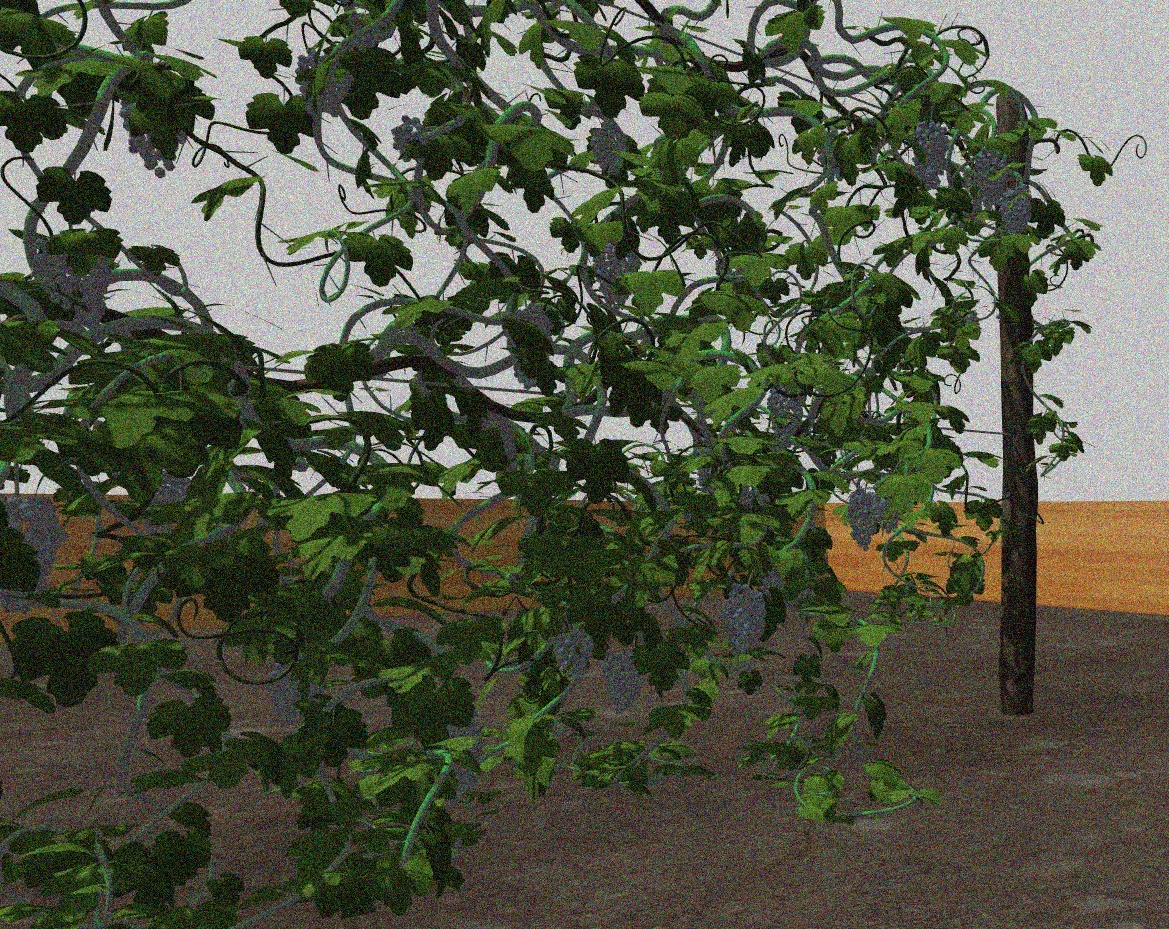grape: (1, 492, 69, 616), (294, 51, 354, 116), (71, 249, 114, 328), (721, 583, 767, 656), (267, 663, 326, 719), (30, 245, 80, 309), (591, 245, 640, 309), (602, 651, 650, 716), (551, 628, 595, 686), (845, 490, 886, 550), (914, 123, 949, 192), (387, 113, 437, 159), (971, 150, 1009, 209), (591, 119, 629, 172), (765, 388, 806, 436), (1000, 189, 1034, 236)
